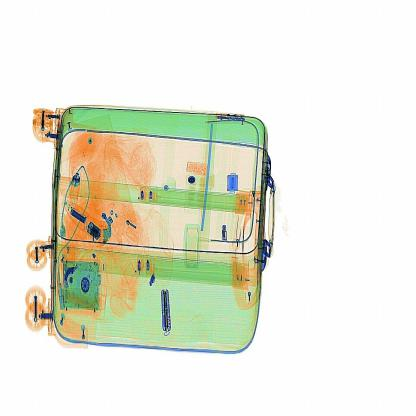scissors: (157, 287, 174, 338)
